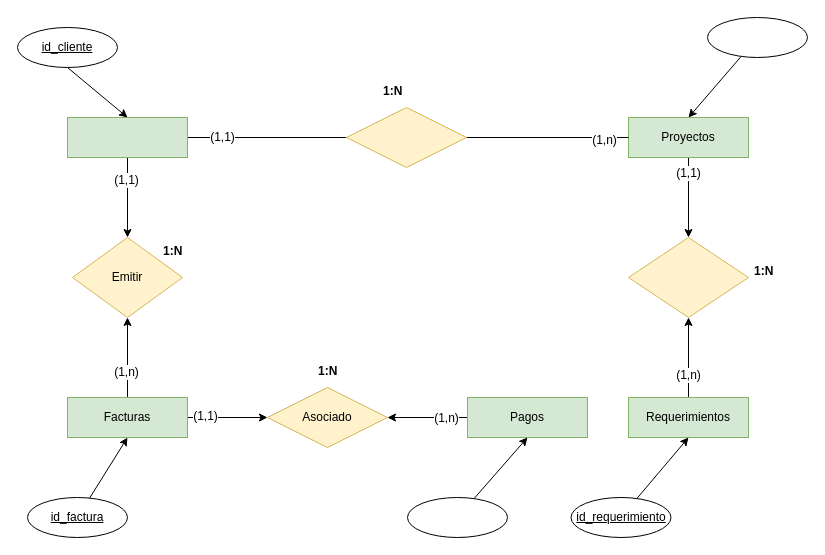
This 825x555 diagram has some shape labels left out. The centre of each missing label's shape, as x and y in pixels:
Asociar: the point at 406,137
Clientes: the point at 127,137
id_pago: the point at 457,517
id_proyecto: the point at 757,37
Tiene: the point at 688,277
